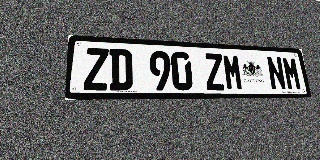0: (170, 51, 193, 90)
9: (149, 50, 172, 90)
D: (109, 49, 133, 90)
M: (222, 54, 244, 90), (282, 57, 302, 90)
N: (266, 56, 287, 90)
Z: (84, 47, 109, 90), (204, 53, 226, 90)
